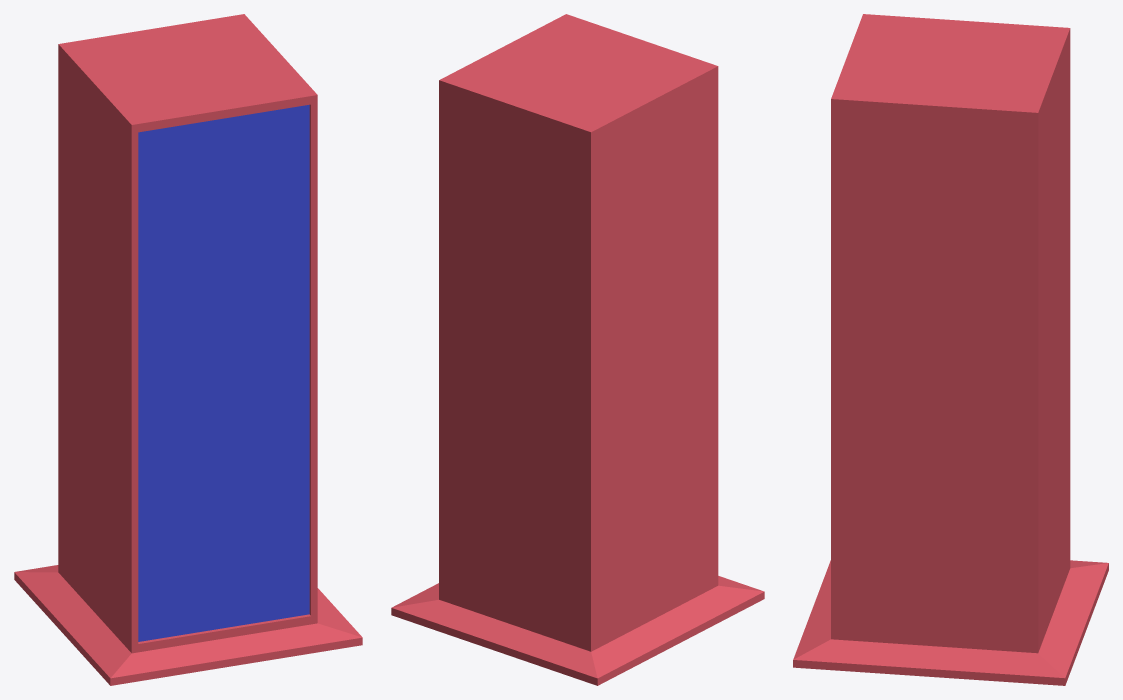
The model's file is Speaker.fbx.
The picture shows the model from 3 angles, left to right: view 1: azimuth 30°, elevation 25°; view 2: azimuth 150°, elevation 25°; view 3: azimuth 270°, elevation 25°; orthographic projection. The views are drawn at different scales.
Parts seen in each view (by area): view 1: Speaker2; view 2: Speaker2; view 3: Speaker2.
Boxes of the visible parts, x1,y1,x2,y2 form: Speaker2: (14,14,362,685); Speaker2: (391,14,764,685); Speaker2: (793,14,1108,685).
Bounding box in the file's own units: 83.97 × 163 × 83.82.
